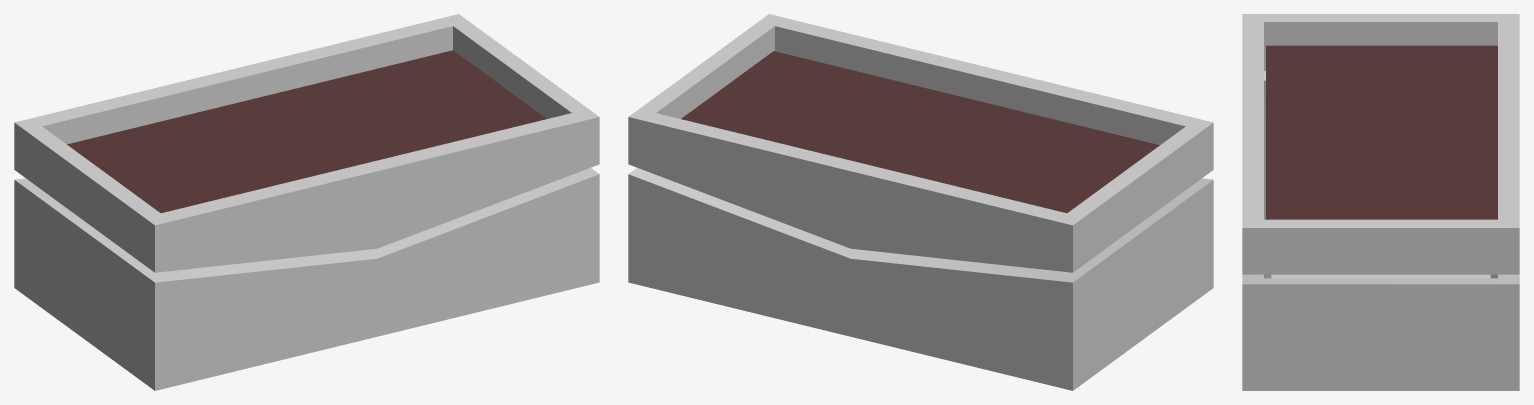
The model's file is Big_plantpot_001.fbx.
3 renders of one model, left to right at view 1: azimuth 30°, elevation 25°; view 2: azimuth 150°, elevation 25°; view 3: azimuth 270°, elevation 25°, orthographic.
Parts seen in each view (by area): view 1: polySurface338, polySurface337, polySurface339; view 2: polySurface338, polySurface337, polySurface339; view 3: polySurface339, polySurface338, polySurface337.
Part boxes in pixels (<box>): polySurface338: <box>14,167,599,390</box>; polySurface337: <box>14,14,599,272</box>; polySurface339: <box>67,50,546,213</box>; polySurface338: <box>628,167,1213,390</box>; polySurface337: <box>628,14,1213,272</box>; polySurface339: <box>681,51,1159,213</box>; polySurface339: <box>1266,45,1497,219</box>; polySurface338: <box>1242,71,1519,390</box>; polySurface337: <box>1242,14,1519,274</box>.
Size of the model in its own units: 2.43 by 0.8635 by 1.33.
